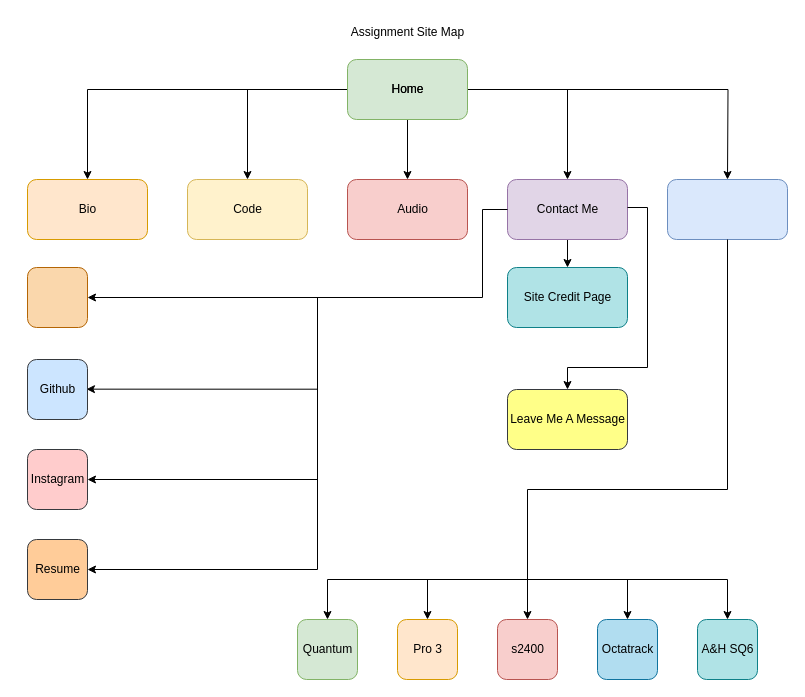
The diagram is 805 pixels wide and 697 high, and some of its shapes have lost their labels. Each missing label, with the centre of its shape:
Blog: pixel 727 209
Linkedin: pixel 57 297
